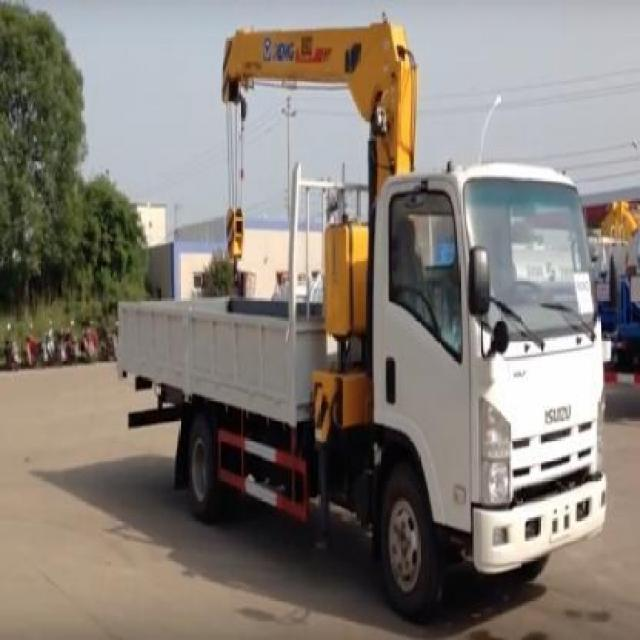Mobile Crane: (112, 23, 608, 615)
